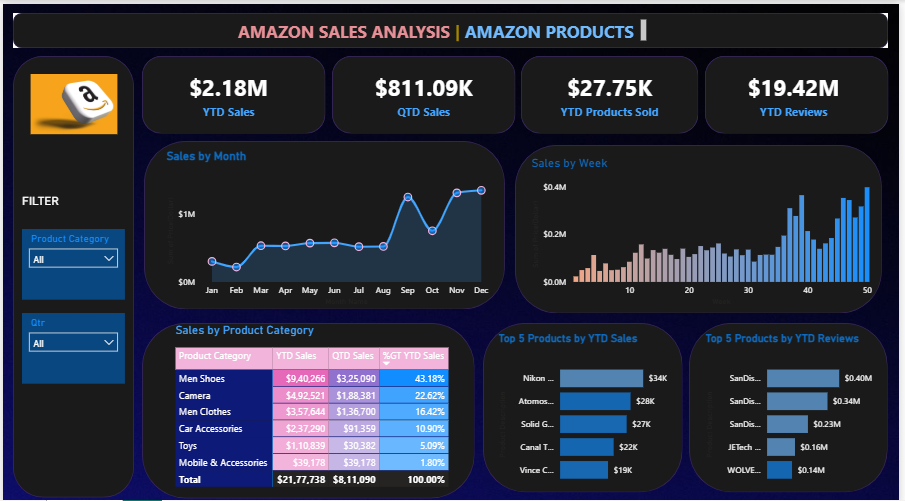

What the dashboard file says about the page in this screenshot:
{"tool":"powerbi","page":{"name":"Page 1","canvas":[1280,720],"ordinal":0},"visuals":[{"type":"shape","box":[14.3,12.9,1250,50],"z":0},{"type":"textbox","box":[330,17.1,594.3,41.4],"z":1000},{"type":"shape","box":[14.4,74.9,172.8,630.7],"z":2000},{"type":"shape","box":[198.7,74.9,262.1,110.9],"z":3000},{"type":"card","fields":{"Values":["Amazon_Data.YTD Sales"]},"box":[191.4,74.3,262.1,110.9],"z":4000},{"type":"shape","box":[469.4,74.9,262.1,110.9],"z":5000},{"type":"shape","box":[740.2,74.9,253.4,110.9],"z":6000},{"type":"shape","box":[1002.2,74.9,262.1,110.9],"z":7000},{"type":"card","fields":{"Values":["Amazon_Data.QTD Sales"]},"box":[469.4,74.9,262.1,110.9],"z":8000},{"type":"card","fields":{"Values":["Amazon_Data.YTD Products Sold"]},"box":[740.2,74.9,253.4,110.9],"z":9000},{"type":"card","fields":{"Values":["Amazon_Data.YTD Reviews"]},"box":[1002.2,74.9,253.4,110.9],"z":10000},{"type":"shape","box":[201.4,195.7,515.5,240.5],"z":11000},{"type":"areaChart","title":"Sales by Month","fields":{"Category":["Date Table.Month Name"],"Y":["Sum(Amazon_Data.Price(Dollar))"]},"box":[228.6,207.1,473.8,229],"z":12000},{"type":"shape","box":[731.5,201.6,524.2,240.5],"z":13000},{"type":"columnChart","title":"Sales by Week","fields":{"Category":["Date Table.Week"],"Y":["Sum(Amazon_Data.Price(Dollar))"]},"box":[750.2,217.4,496.8,218.9],"z":14000},{"type":"shape","box":[198.7,455,475.2,250.6],"z":15000},{"type":"pivotTable","title":"Sales by Product Category","fields":{"Rows":["Amazon_Data.Product Category"],"Values":["Amazon_Data.YTD Sales1","Amazon_Data.QTD Sales","Amazon_Data.YTD Sales"]},"box":[241.9,455,420.5,241.9],"z":16000},{"type":"shape","box":[685.4,455,285.1,241.9],"z":17000},{"type":"shape","box":[980.6,455,283.7,241.9],"z":18000},{"type":"clusteredBarChart","title":"Top 5 Products by YTD Sales","fields":{"Category":["Amazon_Data.Product Description"],"Y":["Amazon_Data.YTD Sales"]},"box":[702.9,467.1,251.4,230],"z":19000},{"type":"clusteredBarChart","title":"Top 5 Products by YTD Reviews","fields":{"Category":["Amazon_Data.Product Description"],"Y":["Amazon_Data.YTD Reviews"]},"box":[998.6,467.1,251.4,230],"z":20000},{"type":"slicer","fields":{"Values":["Amazon_Data.Product Category"]},"box":[27.1,321.4,147.1,101.4],"z":21000},{"type":"slicer","fields":{"Values":["Date Table.Qtr"]},"box":[27.1,441.4,147.1,101.4],"z":22000},{"type":"image","box":[21.4,100,160,85.7],"z":23000},{"type":"shape","title":"FILTER","box":[27.1,271.4,95.7,31.4],"z":23001}]}

Visuals, with their boxes in screenshot pixels (x1, y1, x2, y2), scaled from the page's 1280x720 canvas onto the 905x501 screenshot:
shape: x1=10, y1=9, x2=894, y2=44
textbox: x1=233, y1=12, x2=654, y2=41
shape: x1=10, y1=52, x2=132, y2=491
shape: x1=140, y1=52, x2=326, y2=129
card - Amazon_Data.YTD Sales: x1=135, y1=52, x2=321, y2=129
shape: x1=332, y1=52, x2=517, y2=129
shape: x1=523, y1=52, x2=703, y2=129
shape: x1=709, y1=52, x2=894, y2=129
card - Amazon_Data.QTD Sales: x1=332, y1=52, x2=517, y2=129
card - Amazon_Data.YTD Products Sold: x1=523, y1=52, x2=703, y2=129
card - Amazon_Data.YTD Reviews: x1=709, y1=52, x2=888, y2=129
shape: x1=142, y1=136, x2=507, y2=304
"Sales by Month" areaChart: x1=162, y1=144, x2=497, y2=303
shape: x1=517, y1=140, x2=888, y2=308
"Sales by Week" columnChart: x1=530, y1=151, x2=882, y2=304
shape: x1=140, y1=317, x2=476, y2=491
"Sales by Product Category" pivotTable: x1=171, y1=317, x2=468, y2=485
shape: x1=485, y1=317, x2=686, y2=485
shape: x1=693, y1=317, x2=894, y2=485
"Top 5 Products by YTD Sales" clusteredBarChart: x1=497, y1=325, x2=675, y2=485
"Top 5 Products by YTD Reviews" clusteredBarChart: x1=706, y1=325, x2=884, y2=485
slicer - Amazon_Data.Product Category: x1=19, y1=224, x2=123, y2=294
slicer - Date Table.Qtr: x1=19, y1=307, x2=123, y2=378
image: x1=15, y1=70, x2=128, y2=129
"FILTER" shape: x1=19, y1=189, x2=87, y2=211
